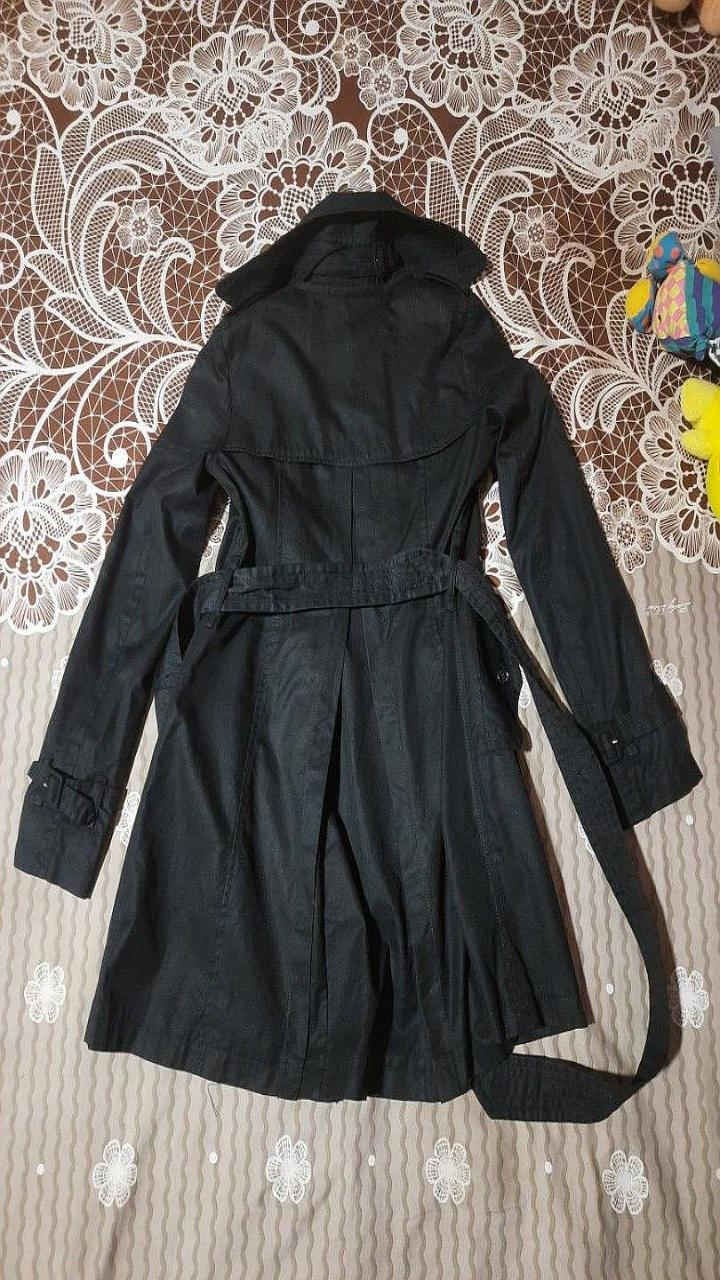Coat: (14, 190, 702, 1121)
